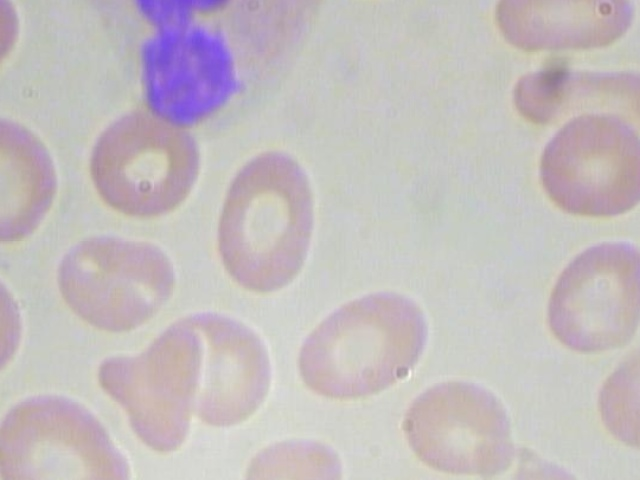RBC: (278, 280, 444, 408), (155, 298, 279, 432), (214, 146, 321, 301), (398, 352, 522, 480), (79, 107, 211, 219), (533, 223, 640, 359), (533, 98, 640, 232), (53, 225, 179, 337), (0, 387, 139, 480), (0, 110, 67, 246), (489, 0, 638, 57), (225, 430, 350, 480), (0, 261, 40, 391), (0, 0, 34, 96)
WBC: (65, 0, 336, 135)
